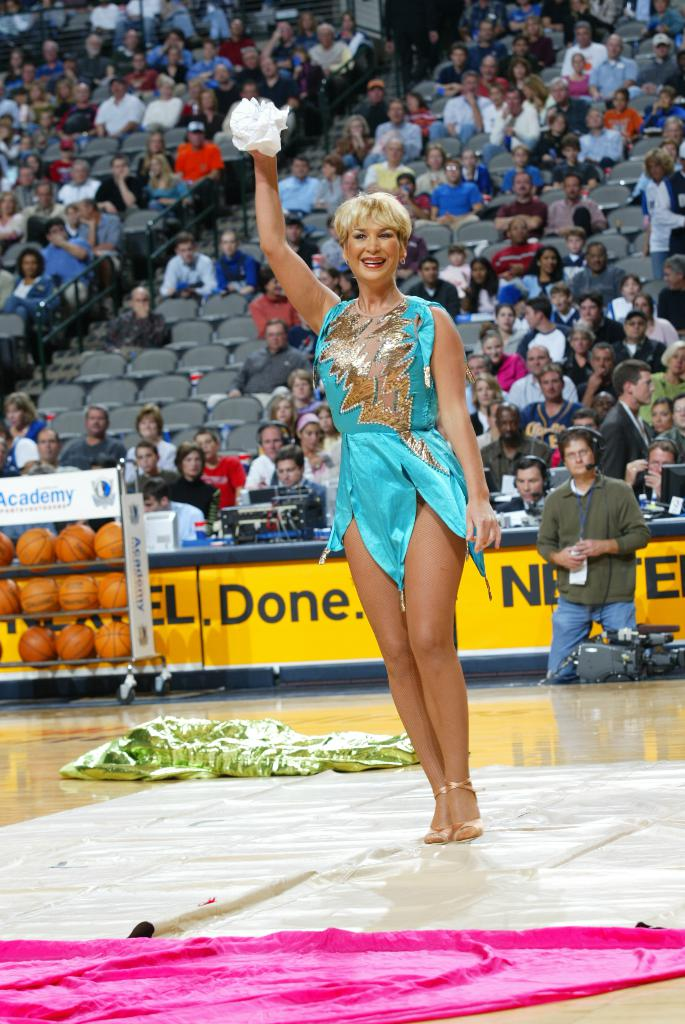Person: (0, 0, 685, 519), (245, 149, 501, 844), (534, 426, 655, 681)
